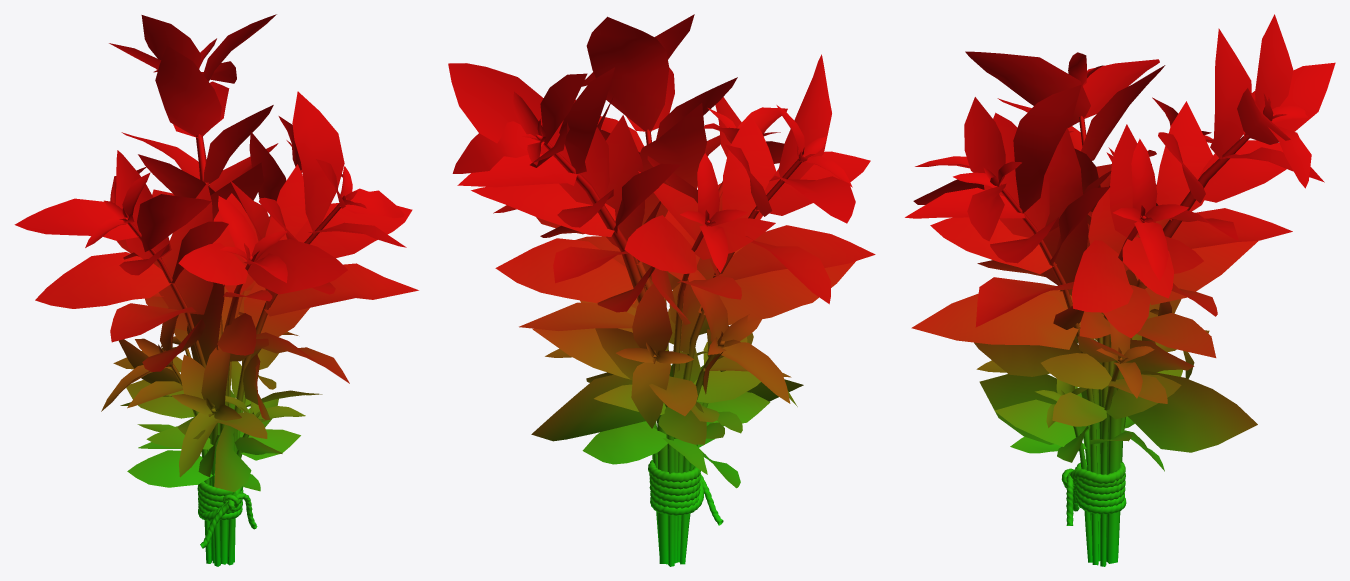
Rendered from Var6_LOD2.fbx.
The picture shows the model from 3 angles, left to right: view 1: azimuth 30°, elevation 25°; view 2: azimuth 150°, elevation 25°; view 3: azimuth 270°, elevation 25°; orthographic projection. The views are drawn at different scales.
Visible parts, largest first — view 1: _4vh7_Var6_LOD2; view 2: _4vh7_Var6_LOD2; view 3: _4vh7_Var6_LOD2.
Boxes of the visible parts, x1,y1,x2,y2 form: _4vh7_Var6_LOD2: [14, 14, 418, 566]; _4vh7_Var6_LOD2: [448, 14, 875, 566]; _4vh7_Var6_LOD2: [905, 14, 1335, 566].
Size of the model in its own units: 20.46 by 28.72 by 20.54.
